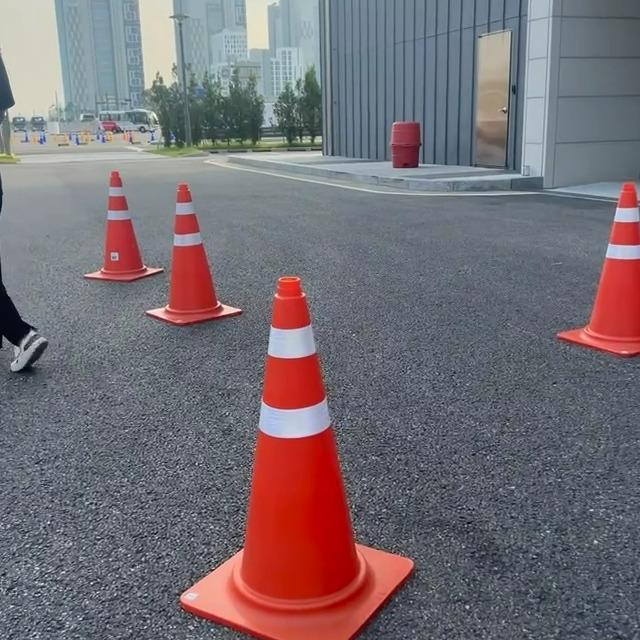fallen_object: (197, 266, 341, 620), (557, 149, 640, 377), (93, 129, 146, 323), (153, 167, 190, 324)
